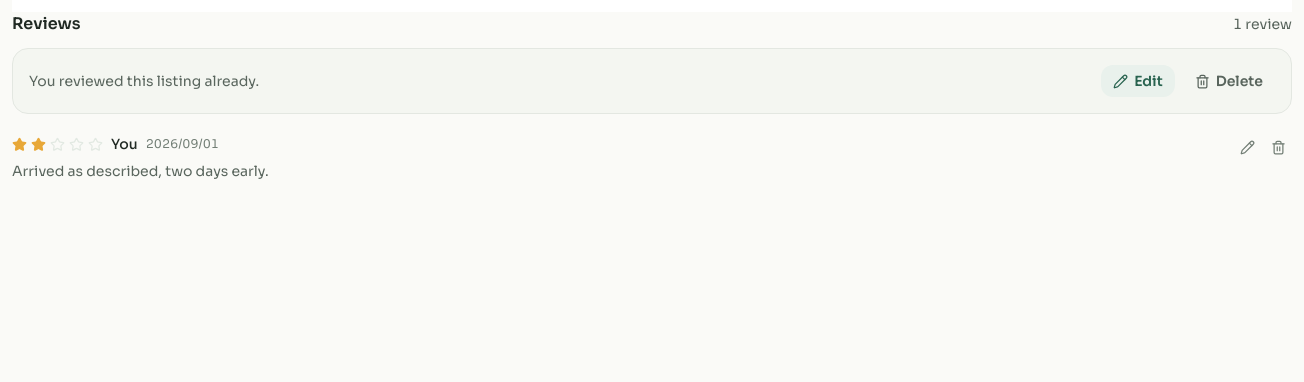
Test: ReviewsSection › marks the reader's own review and offers to change it
Expected: the text "You" is shown, [111,134,138,154]
Click the button named "Edit your review".
click(1248, 148)  # box [1234,134,1261,161]
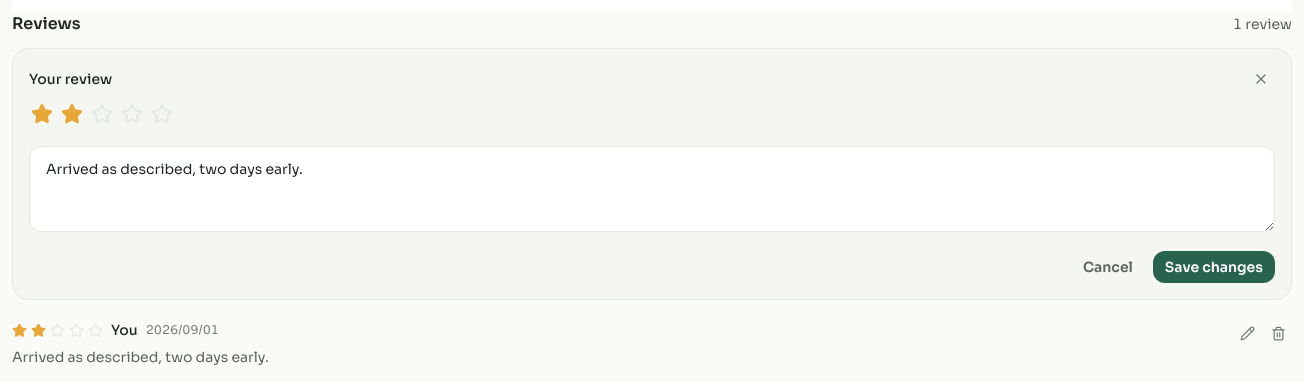
Now the text box labelled "Your review" is shown, box [29,146,1275,232]
